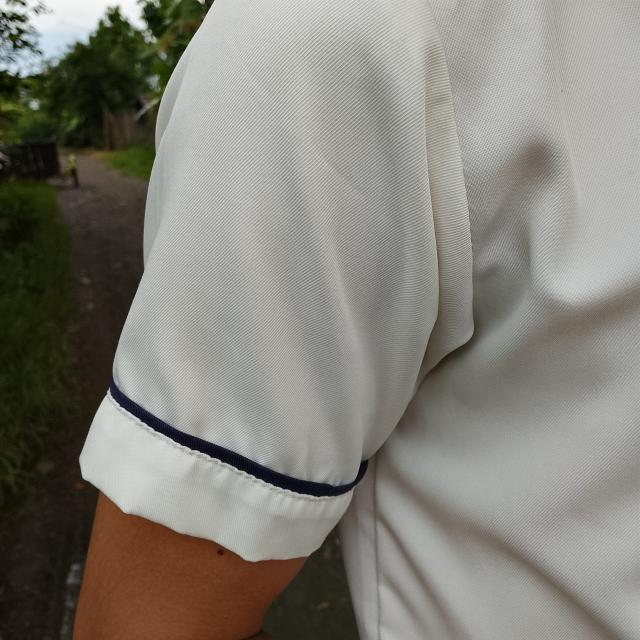education_male_uniform: (9, 1, 640, 606)
